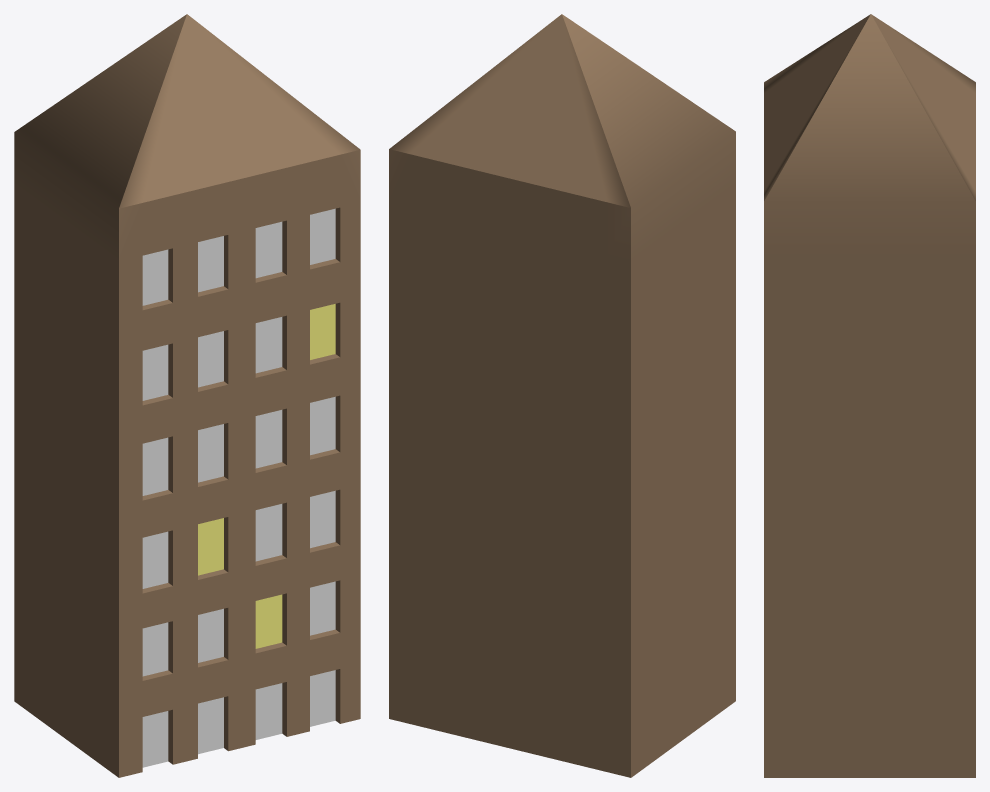
3 renders of one model, left to right at view 1: azimuth 30°, elevation 25°; view 2: azimuth 150°, elevation 25°; view 3: azimuth 270°, elevation 25°, orthographic.
Parts seen in each view (by area): view 1: _b10; view 2: _b10; view 3: _b10.
Boxes of the visible parts, x1,y1,x2,y2 form: _b10: (14,14,360,777); _b10: (389,14,735,777); _b10: (764,14,975,777).
Size of the model in its own units: 2 by 5.5 by 1.5.
1 material, 1 textured.
